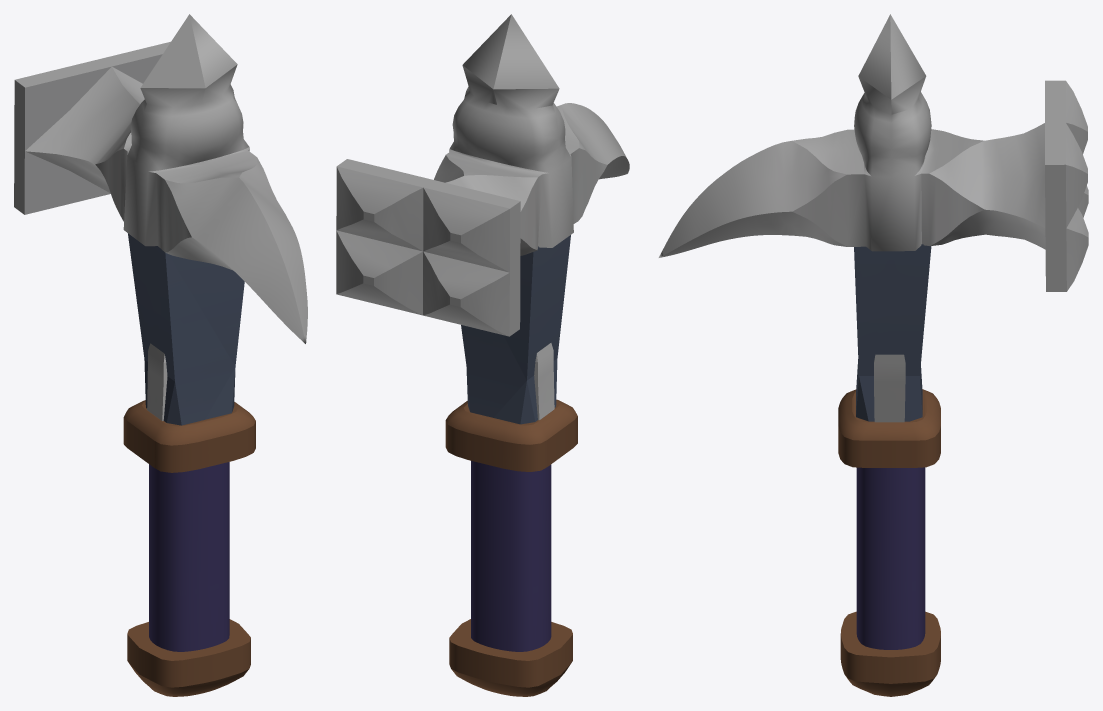
File: hummer1.fbx
3 views of the same model, side by side, from view 1: azimuth 30°, elevation 25°; view 2: azimuth 150°, elevation 25°; view 3: azimuth 270°, elevation 25° (orthographic).
Visible parts, largest first — view 1: WoodPole001; view 2: WoodPole001; view 3: WoodPole001.
Part boxes in pixels (<box>): WoodPole001: <box>14,14,307,696</box>; WoodPole001: <box>336,14,629,696</box>; WoodPole001: <box>658,14,1088,696</box>.
Bounding box in the file's own units: 0.3989 × 1.48 × 0.8602.
